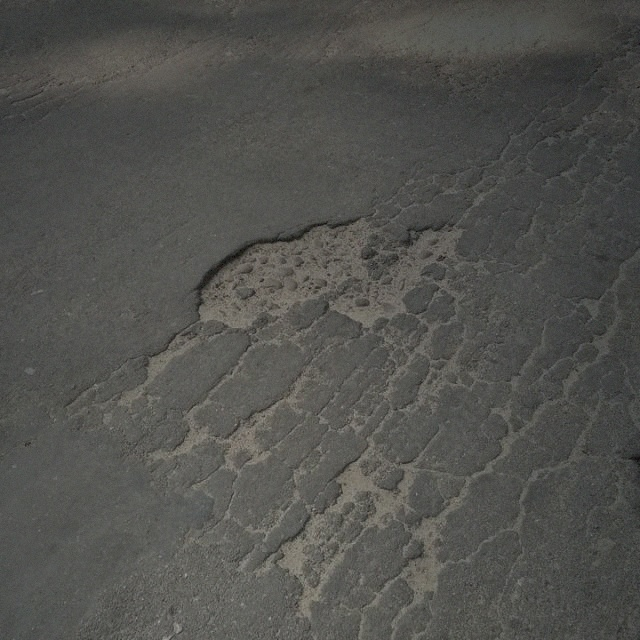pothole: (188, 213, 466, 335)
